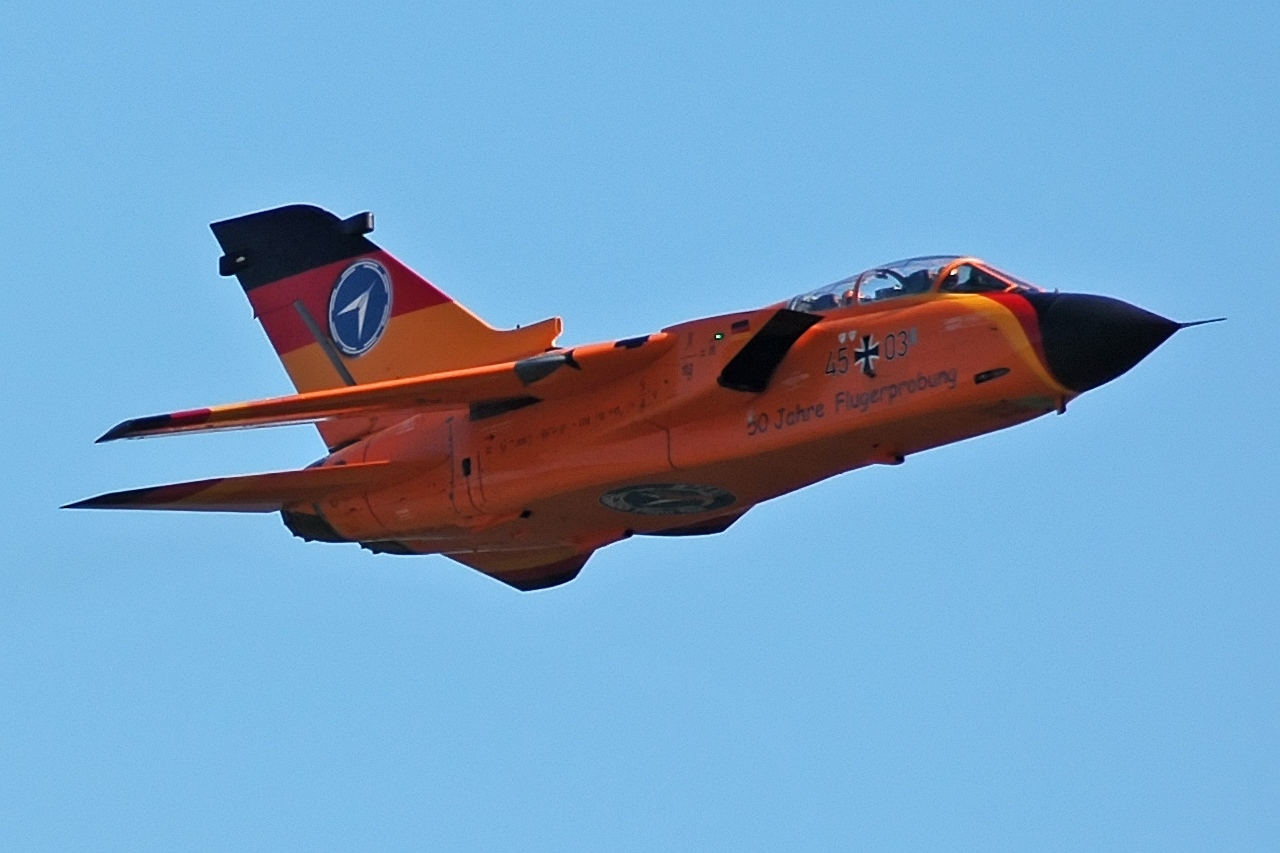Tornado: (57, 203, 1228, 593)
